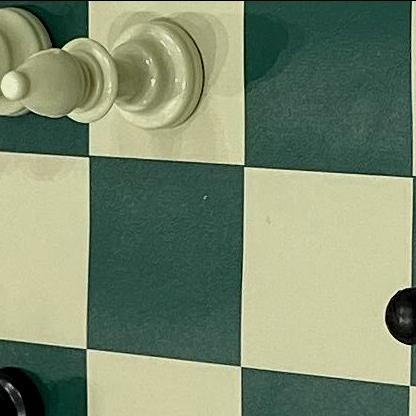black-pawn: (370, 246, 416, 369)
white-bishop: (0, 8, 222, 148)
white-rook: (0, 0, 67, 144)
